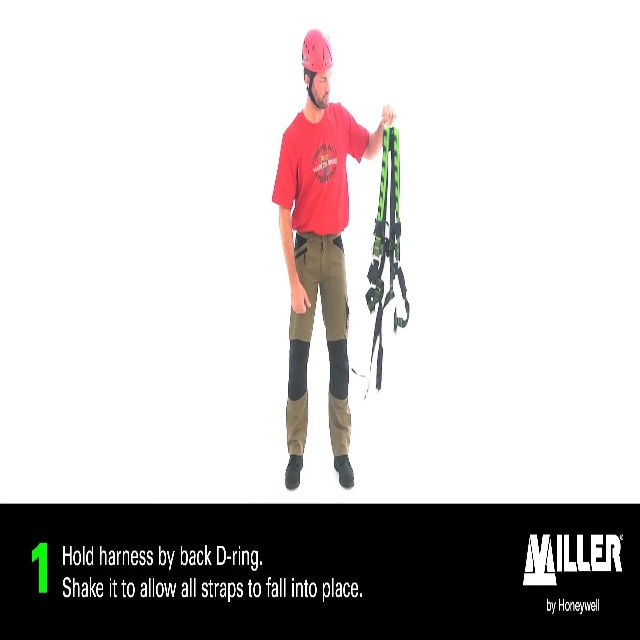Arnes_seguridad: (350, 115, 413, 412)
